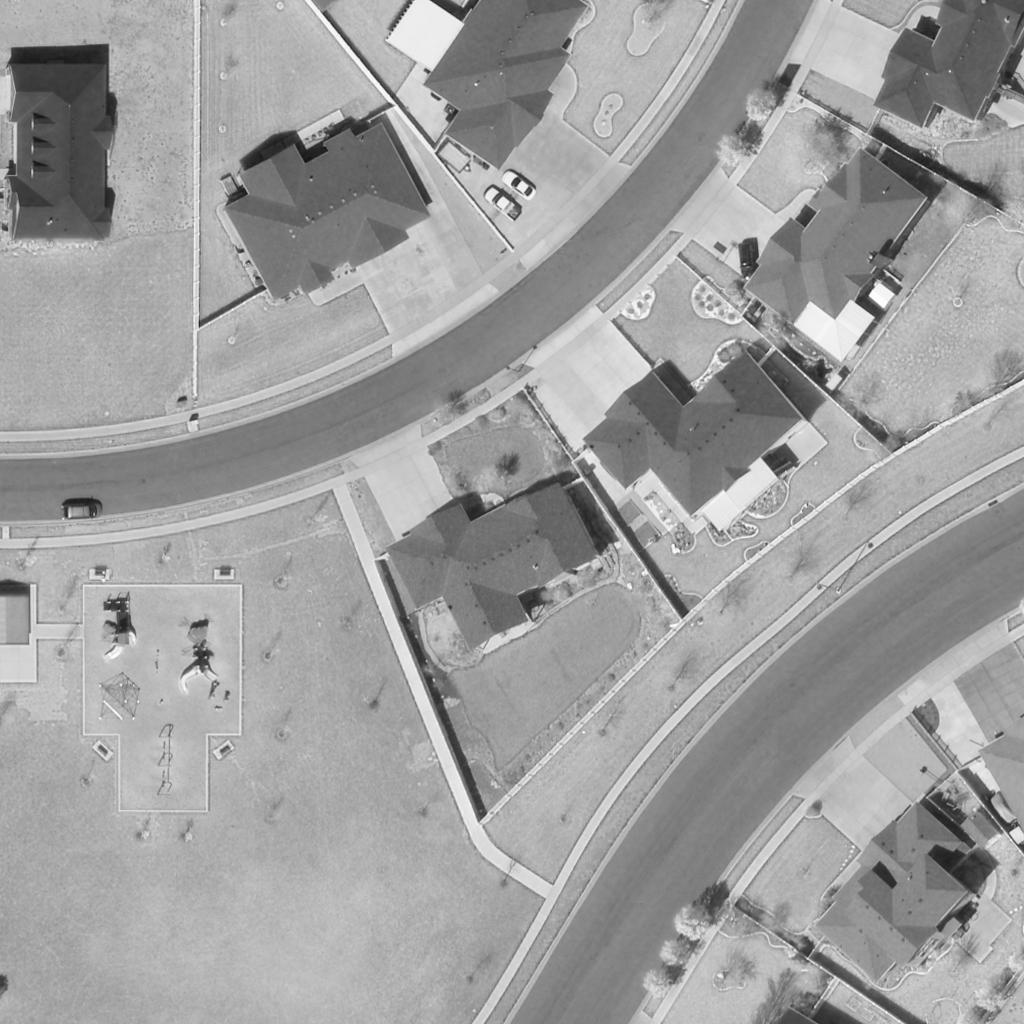vehicle: (483, 187, 523, 223), (503, 171, 537, 201), (63, 506, 103, 522), (739, 243, 755, 279)
